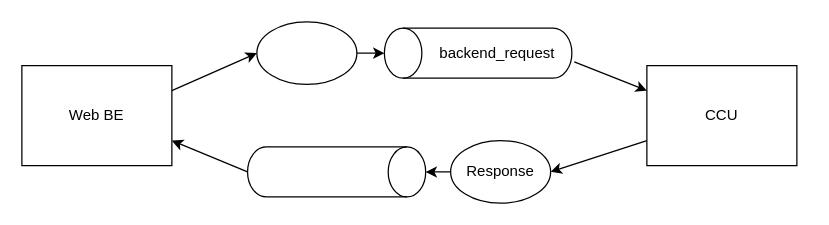
The diagram is 829 pixels wide and 225 high, and some of its shapes have lost their labels. The box of each missing label's shape, as (x1, y1, x2, y2) in pixels:
backend_response: (246, 146, 426, 197)
Request: (256, 21, 357, 84)
